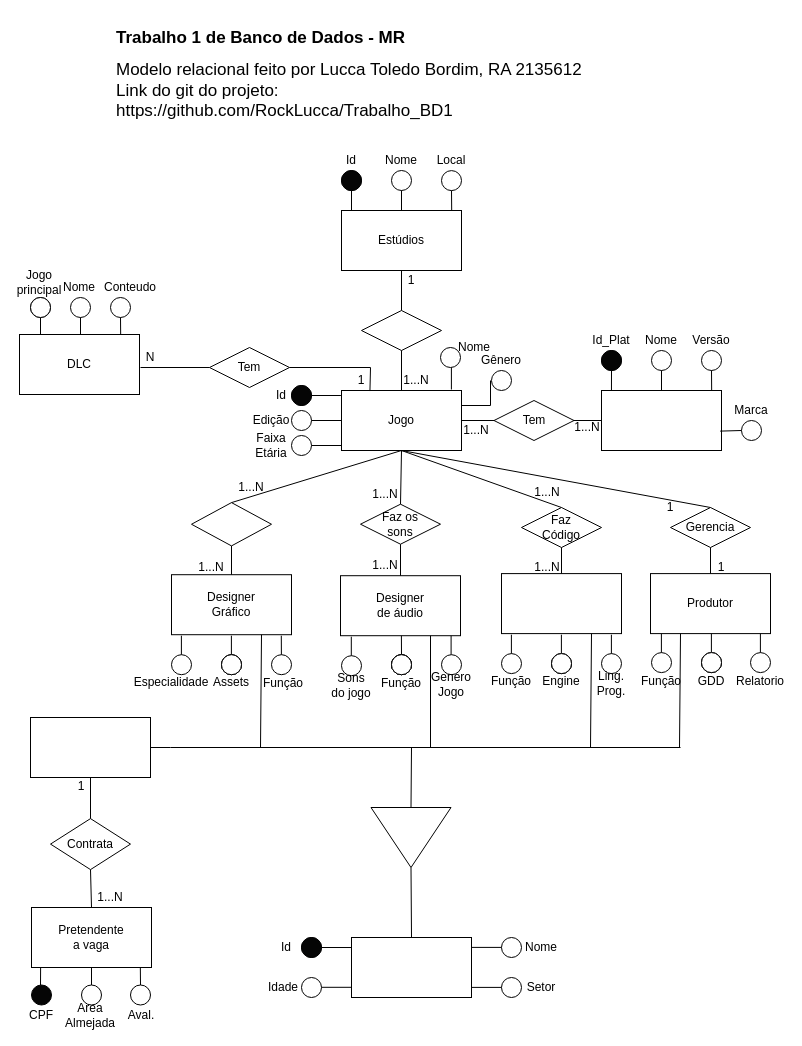
Image size: 802x1046. Some labels were removed from this diagram. Here are the shapes that lost their labels. From the top down, the box of each, then its label:
(360, 310, 442, 350): Publicam
(600, 390, 722, 450): Plataforma
(190, 502, 272, 546): Faz arte Gráfica
(500, 573, 622, 634): Programador
(30, 716, 150, 778): Contratante
(350, 936, 472, 998): Funcionarios
